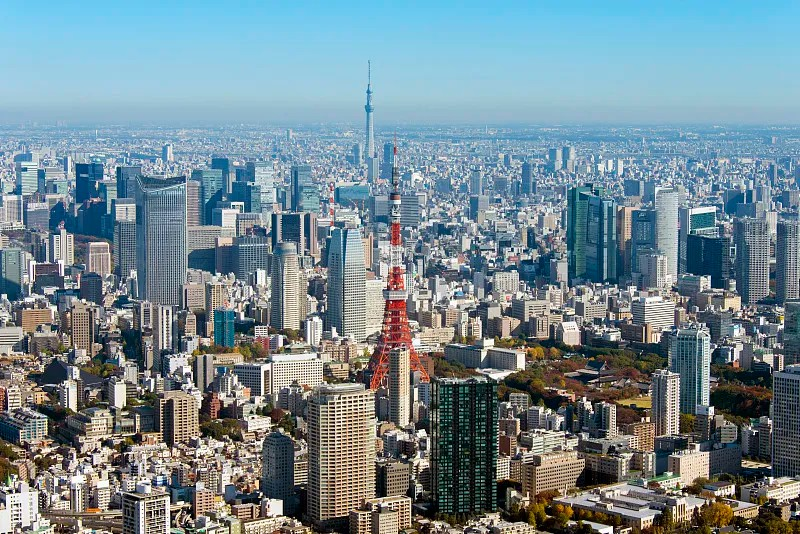Tokyo: (371, 129, 430, 392)
